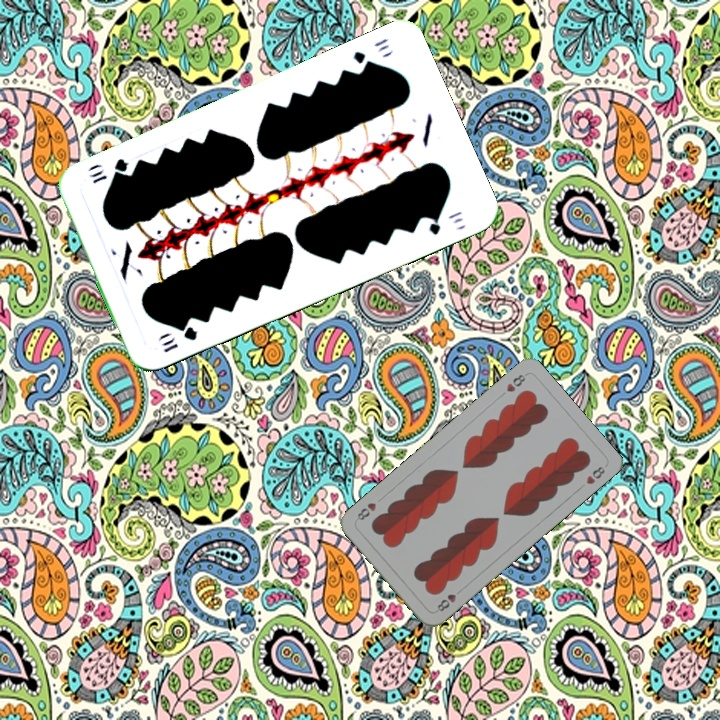G10: (349, 34, 392, 72), (159, 322, 200, 355)
H8: (502, 370, 529, 395), (433, 590, 459, 614)
